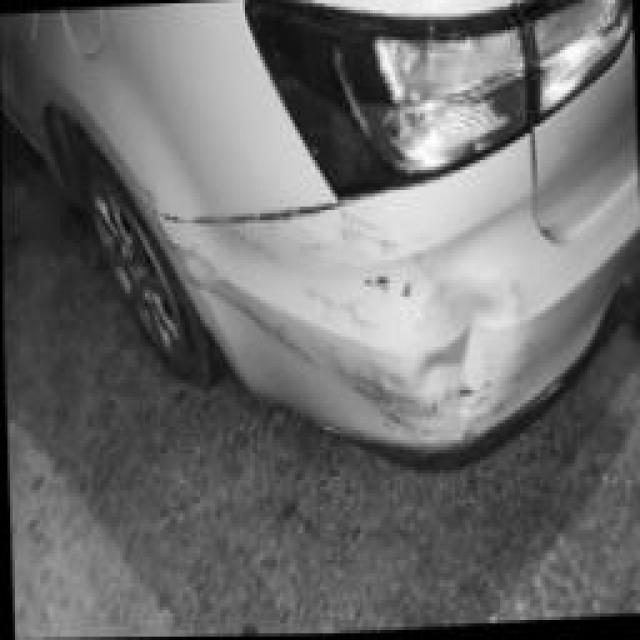Bumper: (192, 190, 585, 466)
